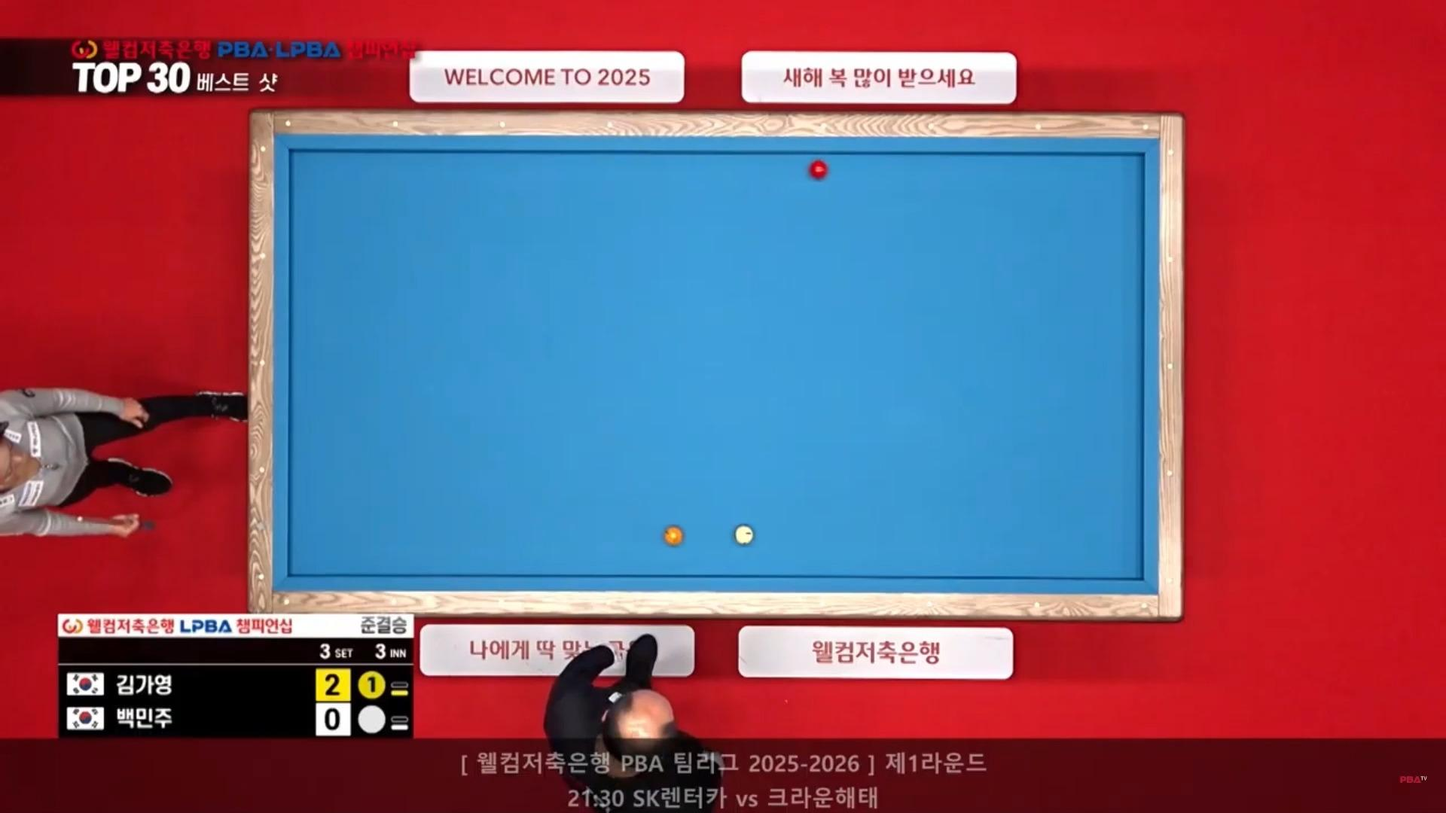Red: (807, 162, 830, 181)
White: (731, 526, 755, 545)
billiard-ball-Red: (663, 523, 685, 547)
